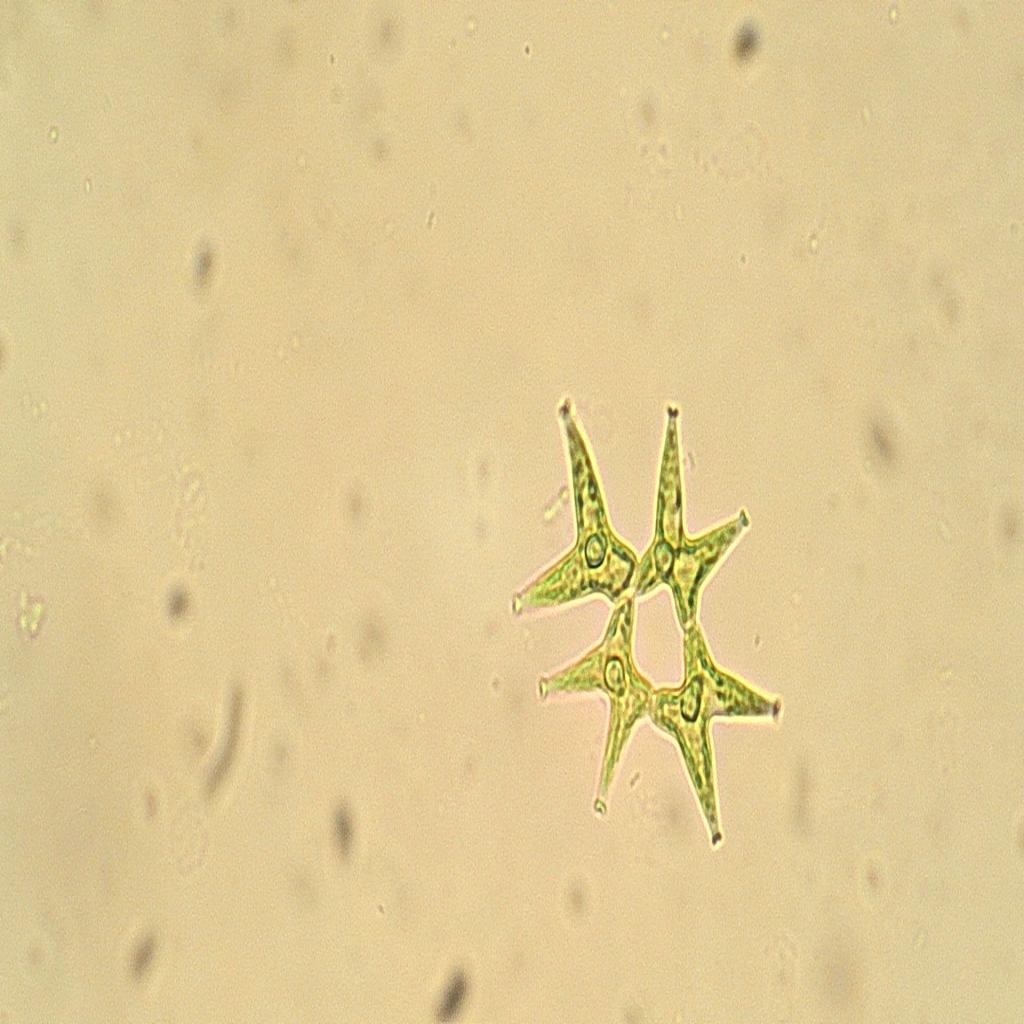Pediastrum_CT: (506, 380, 793, 874)
